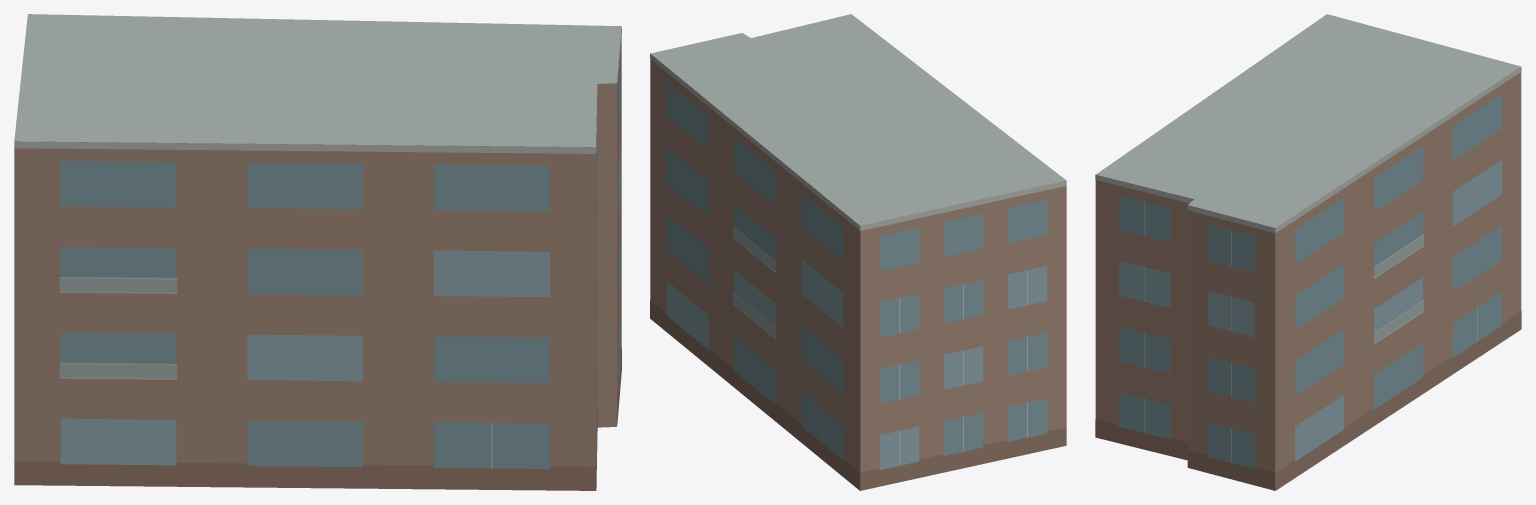
Rendered from survey-upis-32726595.glb.
The picture shows the model from 3 angles, left to right: view 1: azimuth 30°, elevation 25°; view 2: azimuth 150°, elevation 25°; view 3: azimuth 270°, elevation 25°; orthographic projection. The views are drawn at different scales.
Visible parts, largest first — view 1: survey-upis-32726595.tmp; view 2: survey-upis-32726595.tmp; view 3: survey-upis-32726595.tmp.
Boxes of the visible parts, <box> form: survey-upis-32726595.tmp: <box>14,14,621,490</box>; survey-upis-32726595.tmp: <box>650,14,1066,490</box>; survey-upis-32726595.tmp: <box>1095,14,1521,490</box>.
Size of the model in its own units: 21.5 by 12.3 by 18.08.
